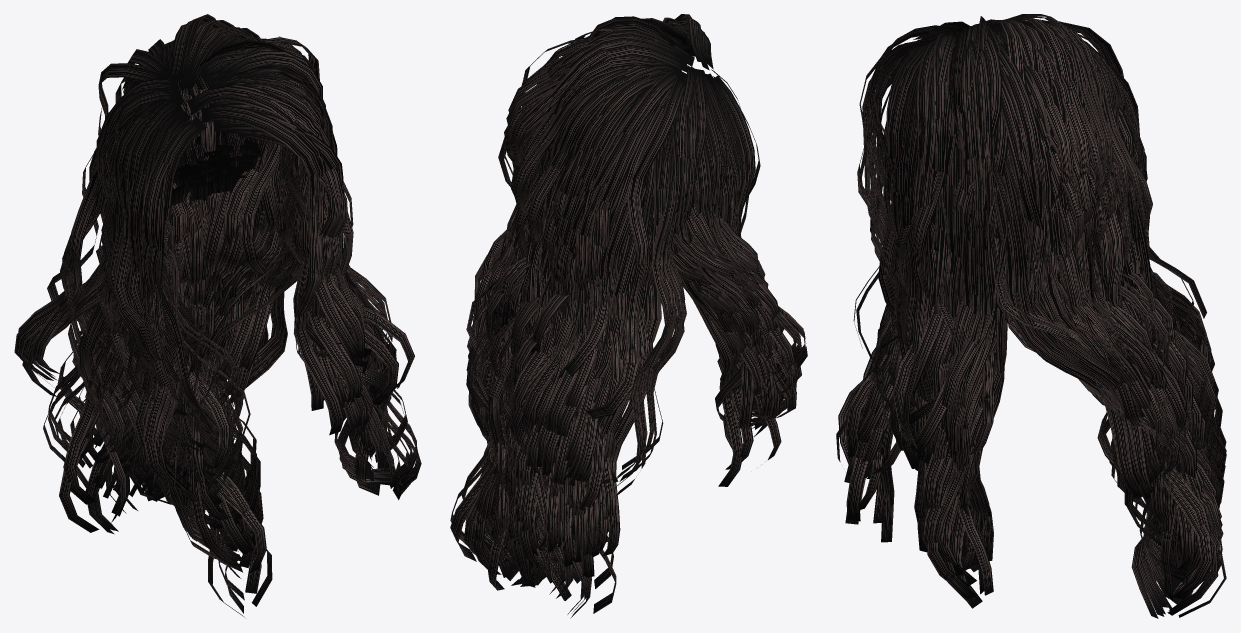
The model's file is Hair10.fbx.
3 renders of one model, left to right at view 1: azimuth 30°, elevation 25°; view 2: azimuth 150°, elevation 25°; view 3: azimuth 270°, elevation 25°, orthographic. The views are drawn at different scales.
Parts seen in each view (by area): view 1: hair10; view 2: hair10; view 3: hair10.
Boxes of the visible parts, x1,y1,x2,y2 form: hair10: [14, 14, 421, 617]; hair10: [450, 14, 807, 618]; hair10: [836, 14, 1226, 618].
Size of the model in its own units: 35.07 by 63.75 by 39.05.
1 material, 1 textured.
